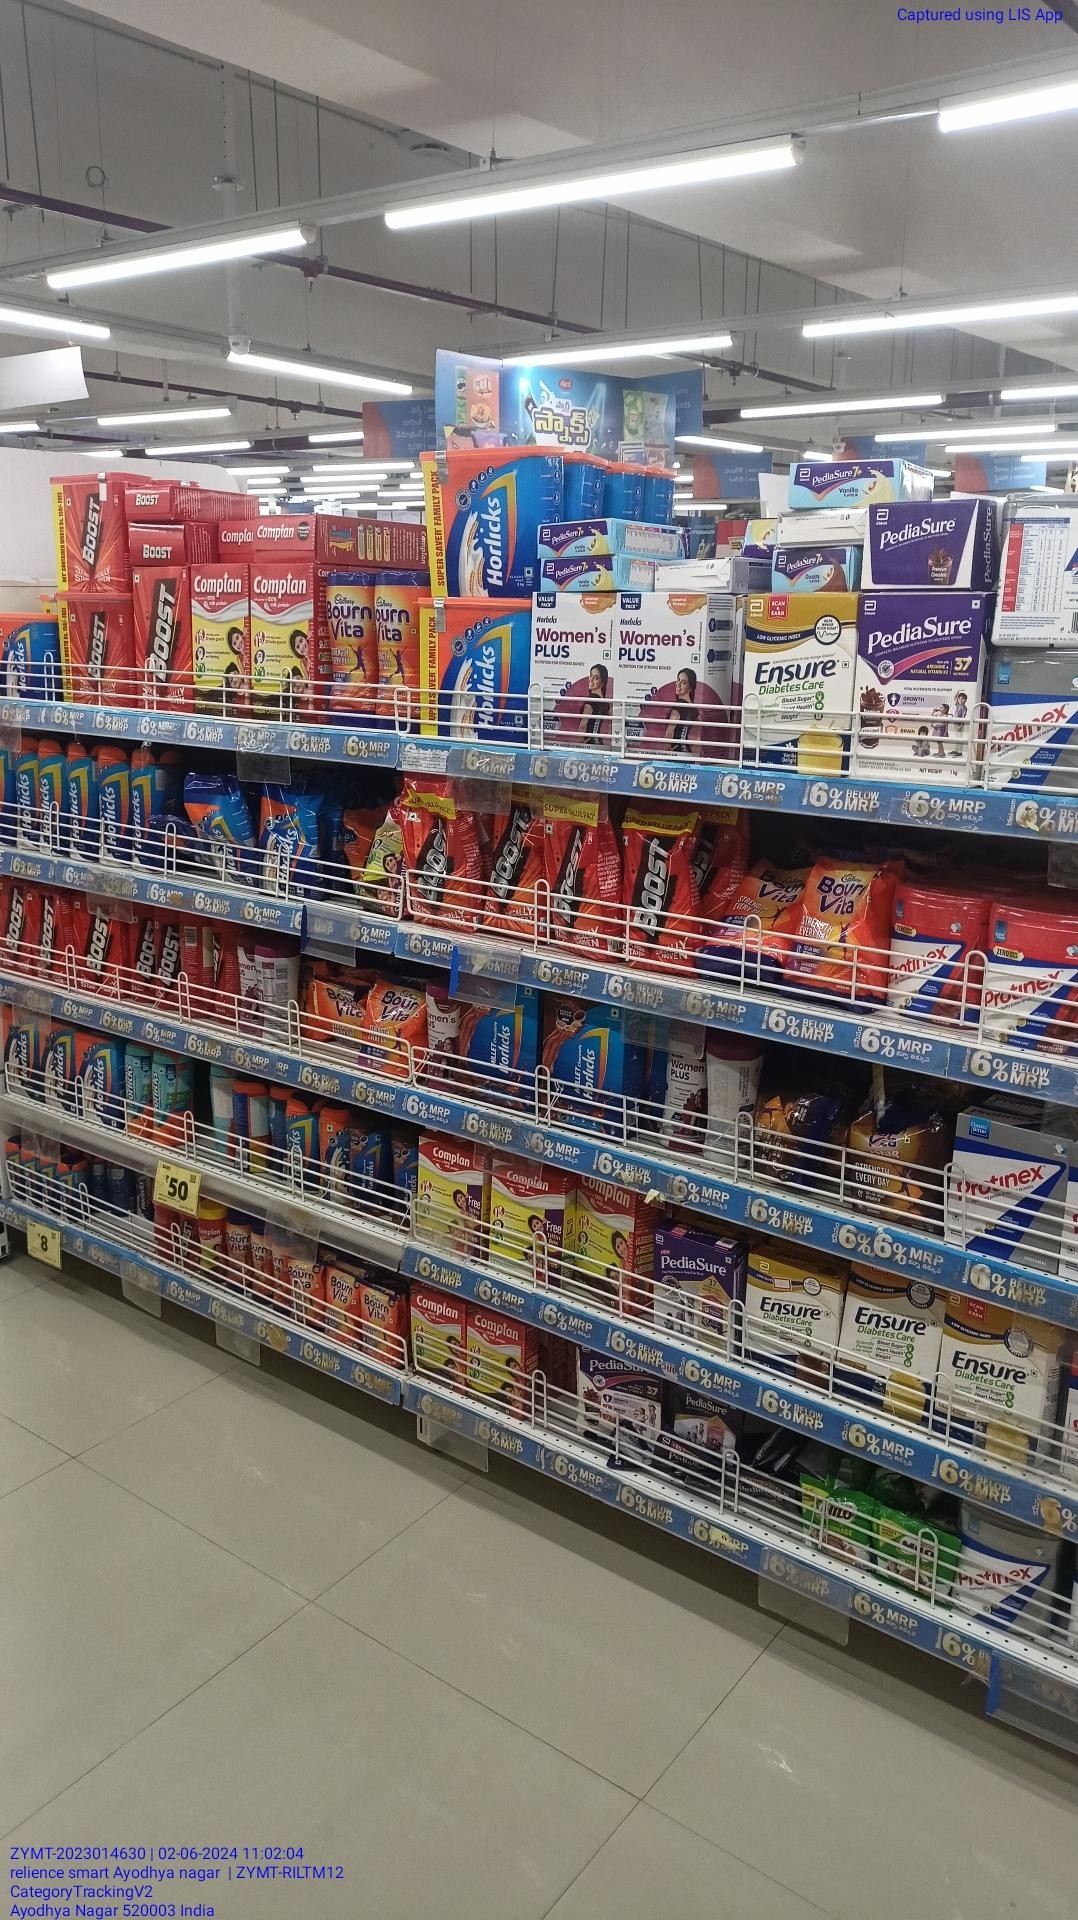BOURN_VITA_FIVE_STAR_MAGIC_500_G_POUCH: (848, 1092, 942, 1233)
HORLICKS_LITE_REGULAR_MALT_500_GM_JAR: (152, 1047, 195, 1146), (123, 1043, 149, 1139)
HORLICK_CLASSIC_MALT_500_G_JAR: (318, 1104, 350, 1203), (285, 1093, 317, 1188)
HORLICK_CLASSIC_MALT_500_G_PACK: (74, 1033, 120, 1126), (37, 1015, 73, 1112), (3, 1006, 36, 1098)
PEDIASURE_VANILLA_500_G_PACK: (652, 1229, 734, 1358)
PROTINEX_CHOCOLATE_400_G_JAR: (982, 909, 1078, 1062), (887, 884, 979, 1025)
PROTINEX_ORIGINAL_400_G_JAR: (986, 649, 1078, 790), (954, 1513, 1053, 1639)
